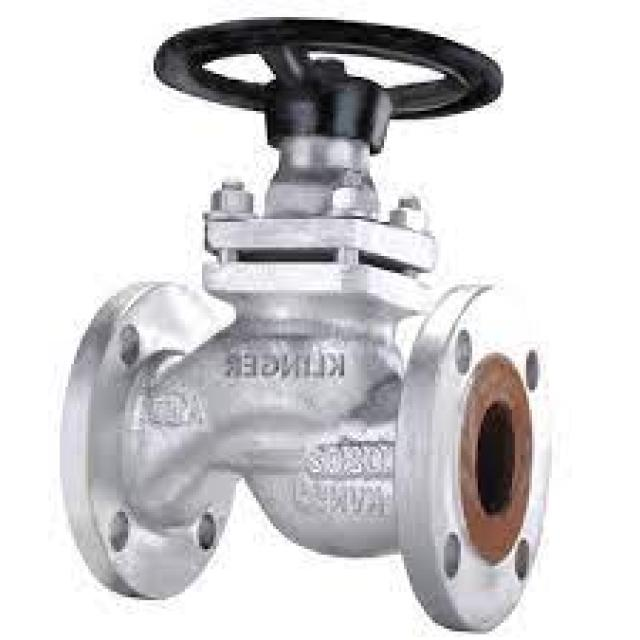Wheel Handle Valve Threaded: (141, 5, 566, 148)
